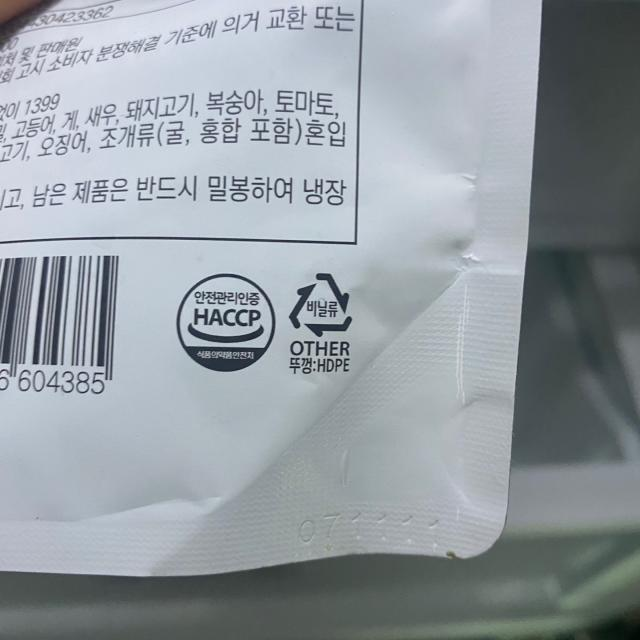Vinyl: (283, 266, 359, 339)
